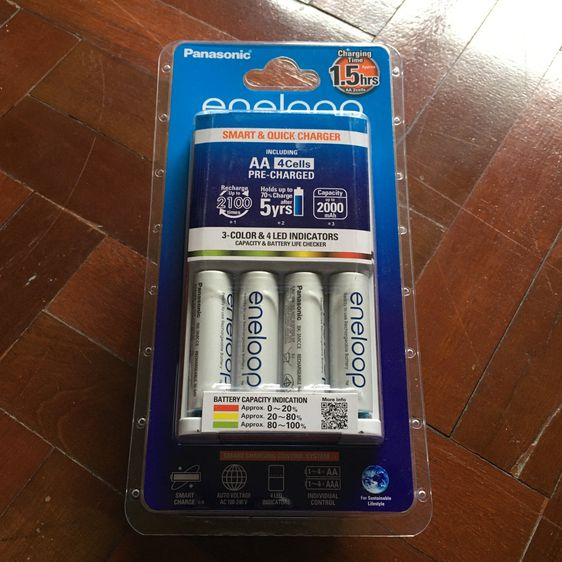Battery: (327, 269, 375, 421), (183, 267, 232, 413), (233, 263, 283, 389), (280, 266, 327, 391)
